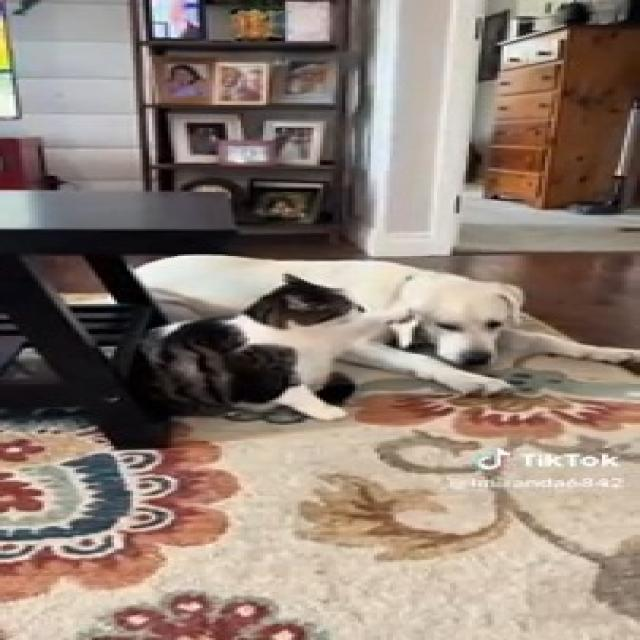dogs: (130, 260, 640, 414)
